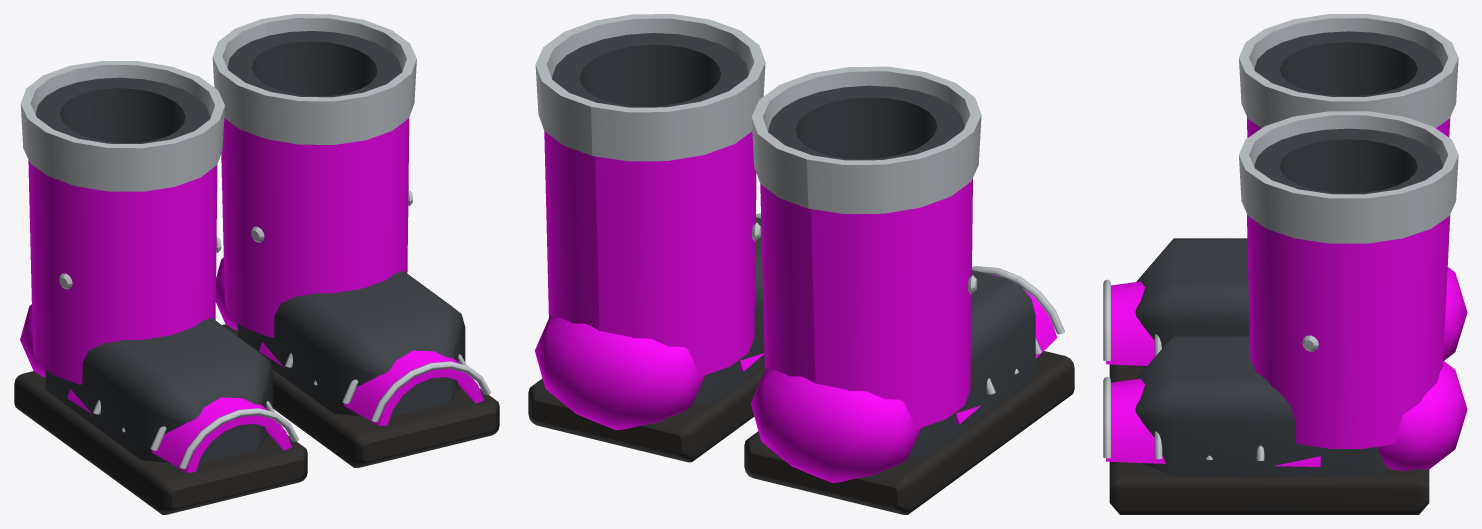
File: porte_armure2_bottes.glb
3 views of the same model, side by side, from view 1: azimuth 30°, elevation 25°; view 2: azimuth 150°, elevation 25°; view 3: azimuth 270°, elevation 25° (orthographic). The views are drawn at different scales.
Parts seen in each view (by area): view 1: jambe_d__bottes_armure_teinte.010, jambe_g__bottes_armure_teinte.010, pied_d__bottes_armure_teinte_sombre.008, pied_g__bottes_armure_teinte_sombre.008, jambe_d__bottes_armure_rivet.006, jambe_g__bottes_armure_rivet.006, pied_d__bottes_armure_semelle.008, pied_g__bottes_armure_semelle.008, jambe_g__bottes_armure_teinte_sombre.008, jambe_d__bottes_armure_teinte_sombre.008, pied_d__bottes_armure_teinte.010, pied_g__bottes_armure_teinte.010 (+2 smaller); view 2: jambe_d__bottes_armure_teinte.010, jambe_g__bottes_armure_teinte.010, jambe_d__bottes_armure_rivet.006, jambe_g__bottes_armure_rivet.006, pied_d__bottes_armure_teinte.010, pied_g__bottes_armure_teinte.010, pied_d__bottes_armure_semelle.008, jambe_d__bottes_armure_teinte_sombre.008, jambe_g__bottes_armure_teinte_sombre.008, pied_d__bottes_armure_teinte_sombre.008, pied_g__bottes_armure_semelle.008, pied_g__bottes_armure_teinte_sombre.008 (+1 smaller); view 3: jambe_g__bottes_armure_teinte.010, pied_g__bottes_armure_teinte_sombre.008, jambe_g__bottes_armure_rivet.006, pied_g__bottes_armure_semelle.008, jambe_d__bottes_armure_rivet.006, pied_d__bottes_armure_teinte_sombre.008, jambe_g__bottes_armure_teinte_sombre.008, jambe_d__bottes_armure_teinte_sombre.008, pied_g__bottes_armure_teinte.010, pied_d__bottes_armure_teinte.010, pied_g__bottes_armure_rivet.002, pied_d__bottes_armure_rivet.002 (+1 smaller).
Boxes of the visible parts, left/top/right/bottom form: jambe_d__bottes_armure_teinte.010: left=28, top=160, right=217, bottom=384; jambe_g__bottes_armure_teinte.010: left=221, top=118, right=409, bottom=337; pied_d__bottes_armure_teinte_sombre.008: left=45, top=317, right=273, bottom=463; pied_g__bottes_armure_teinte_sombre.008: left=237, top=270, right=465, bottom=417; jambe_d__bottes_armure_rivet.006: left=20, top=60, right=224, bottom=289; jambe_g__bottes_armure_rivet.006: left=212, top=14, right=416, bottom=242; pied_d__bottes_armure_semelle.008: left=14, top=371, right=307, bottom=514; pied_g__bottes_armure_semelle.008: left=222, top=324, right=499, bottom=467; jambe_g__bottes_armure_teinte_sombre.008: left=227, top=31, right=402, bottom=97; jambe_d__bottes_armure_teinte_sombre.008: left=35, top=77, right=210, bottom=143; pied_d__bottes_armure_teinte.010: left=20, top=304, right=291, bottom=472; pied_g__bottes_armure_teinte.010: left=215, top=257, right=483, bottom=425; jambe_d__bottes_armure_teinte.010: left=760, top=178, right=972, bottom=428; jambe_g__bottes_armure_teinte.010: left=544, top=131, right=756, bottom=376; jambe_d__bottes_armure_rivet.006: left=751, top=66, right=981, bottom=294; jambe_g__bottes_armure_rivet.006: left=535, top=14, right=765, bottom=241; pied_d__bottes_armure_teinte.010: left=750, top=274, right=1057, bottom=482; pied_g__bottes_armure_teinte.010: left=535, top=315, right=764, bottom=430; pied_d__bottes_armure_semelle.008: left=744, top=351, right=1074, bottom=514; jambe_d__bottes_armure_teinte_sombre.008: left=768, top=85, right=964, bottom=160; jambe_g__bottes_armure_teinte_sombre.008: left=552, top=33, right=748, bottom=107; pied_d__bottes_armure_teinte_sombre.008: left=908, top=270, right=1035, bottom=457; pied_g__bottes_armure_semelle.008: left=528, top=365, right=764, bottom=462; pied_g__bottes_armure_teinte_sombre.008: left=692, top=217, right=764, bottom=405; jambe_g__bottes_armure_teinte.010: left=1247, top=214, right=1450, bottom=448; pied_g__bottes_armure_teinte_sombre.008: left=1135, top=335, right=1389, bottom=476; jambe_g__bottes_armure_rivet.006: left=1239, top=111, right=1458, bottom=351; pied_g__bottes_armure_semelle.008: left=1109, top=461, right=1429, bottom=514; jambe_d__bottes_armure_rivet.006: left=1239, top=14, right=1458, bottom=128; pied_d__bottes_armure_teinte_sombre.008: left=1135, top=238, right=1249, bottom=367; jambe_g__bottes_armure_teinte_sombre.008: left=1254, top=128, right=1443, bottom=194; jambe_d__bottes_armure_teinte_sombre.008: left=1254, top=31, right=1443, bottom=96; pied_g__bottes_armure_teinte.010: left=1106, top=360, right=1467, bottom=470; pied_d__bottes_armure_teinte.010: left=1106, top=267, right=1467, bottom=365; pied_g__bottes_armure_rivet.002: left=1103, top=377, right=1264, bottom=460; pied_d__bottes_armure_rivet.002: left=1103, top=279, right=1161, bottom=360.
Bounding box in the file's own units: 0.3415 × 0.284 × 0.285.
